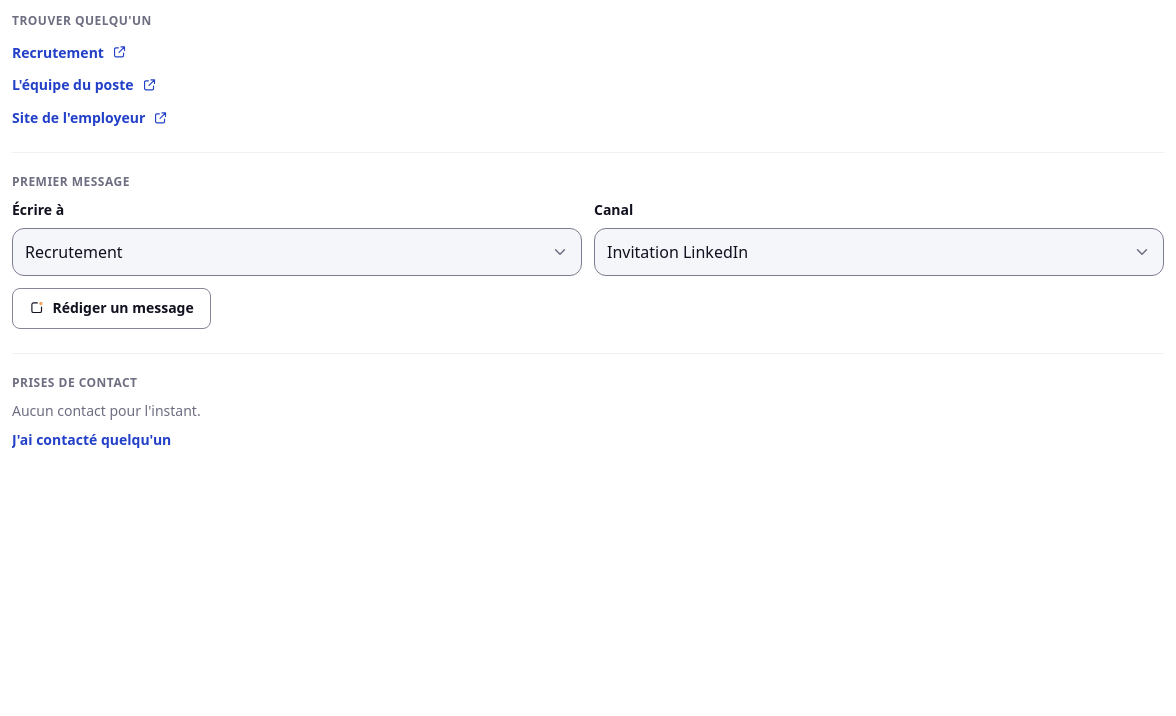
ContactsPanel › rédige un message, compte les caractères d'une invitation et reprend le rôle
Select "Membre de l'équipe" in the dropdown labelled "Écrire à" at (297, 252), box [12,228,582,276]
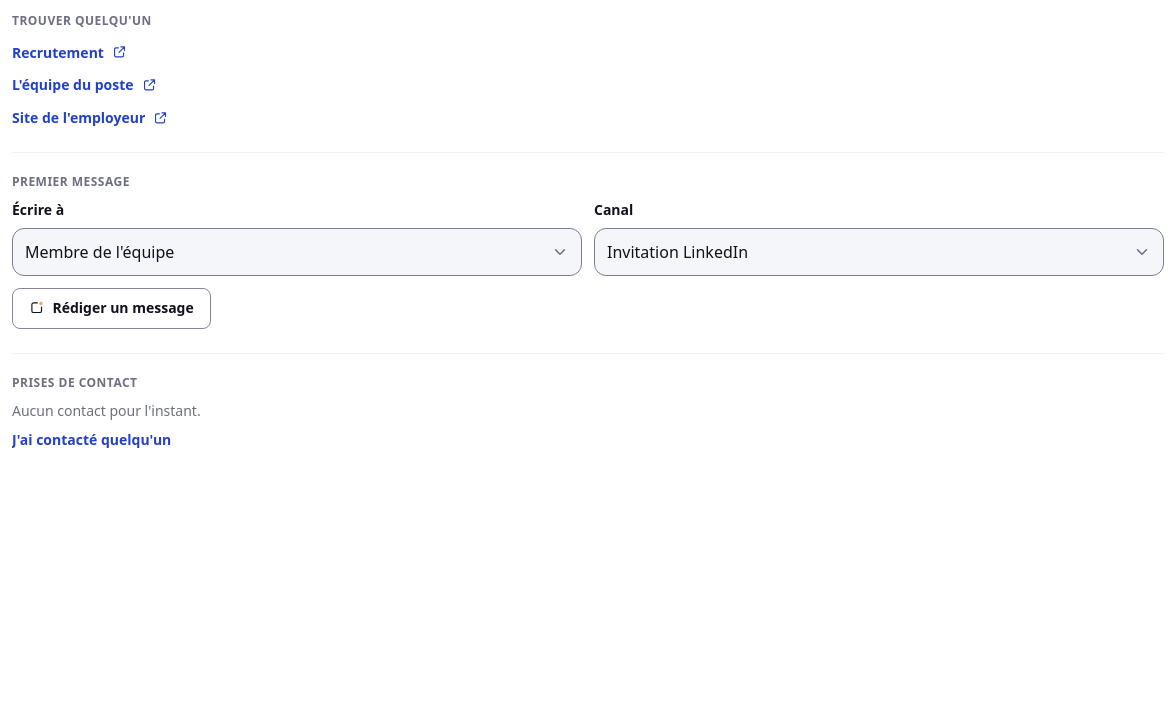
Submit the form, box [12,199,1164,329]
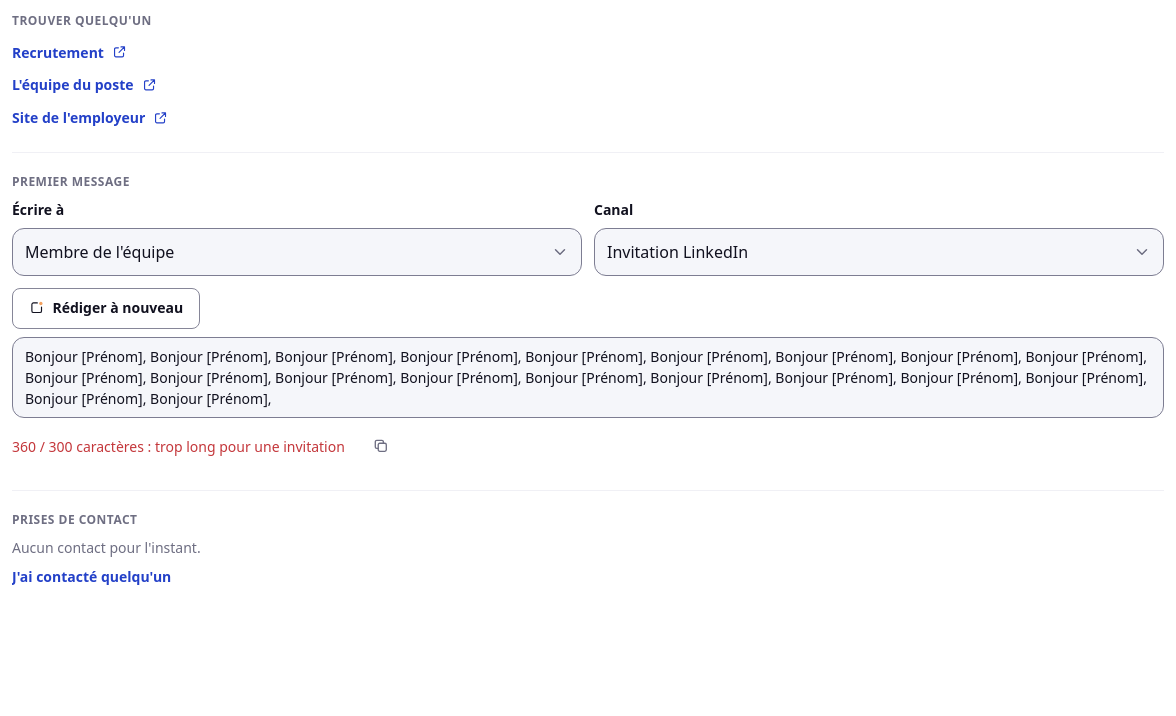
Check: the text with test id "contact-count" shows "trop long", box [12,437,345,456]
Click the button with test id "contact-add" at (92, 577), box [12,566,1164,587]
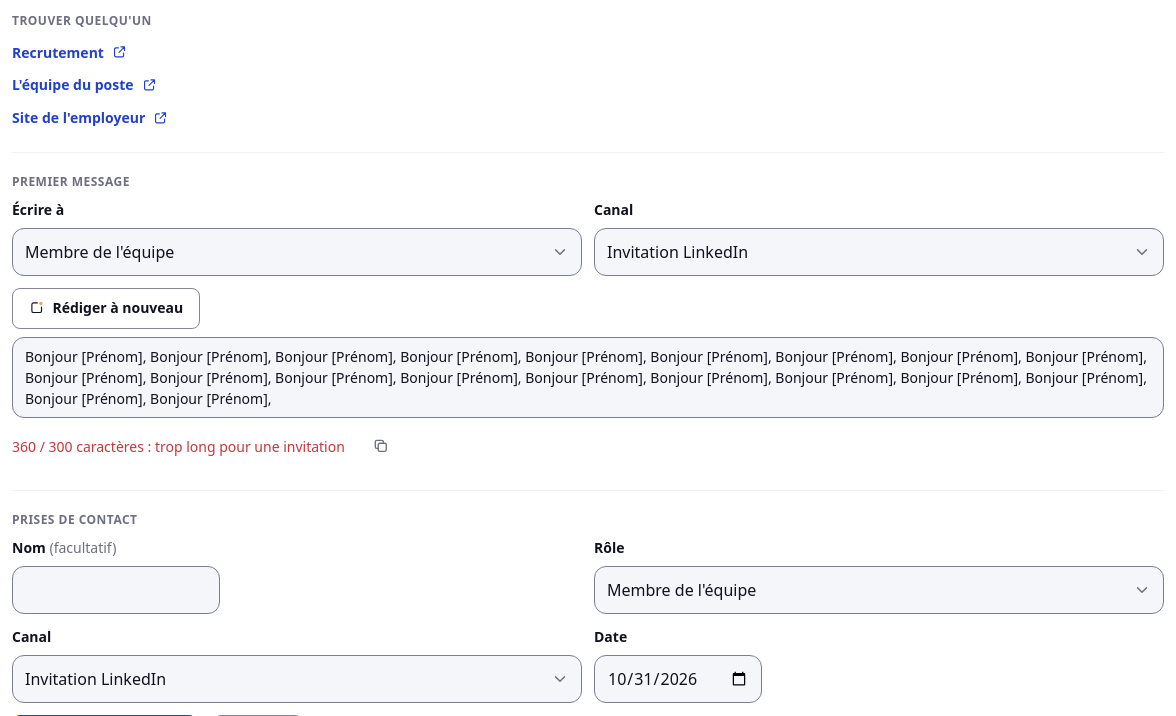
Check: the dropdown labelled "Rôle" shows "Membre de l'équipe", box [594,566,1164,614]
